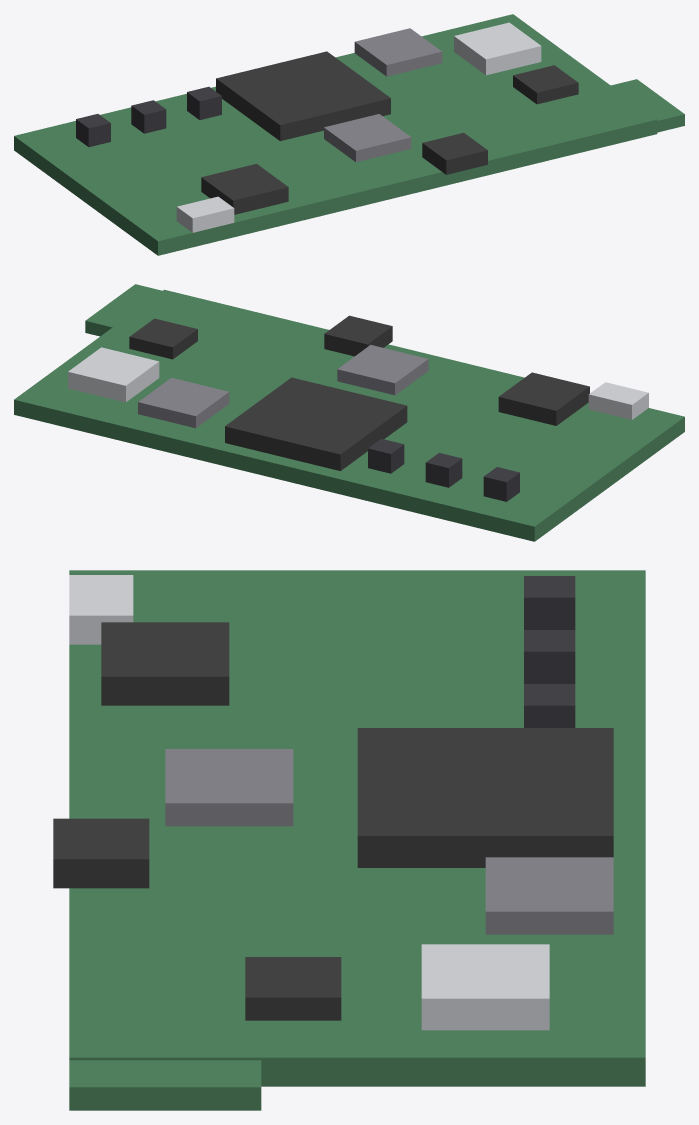
Rendered from mainboard.gltf.
3 renders of one model, top to bottom at view 1: azimuth 30°, elevation 25°; view 2: azimuth 150°, elevation 25°; view 3: azimuth 270°, elevation 25°, orthographic. The views are drawn at different scales.
Visible parts, largest first — view 1: mainboard; view 2: mainboard; view 3: mainboard.
Part boxes in pixels (<box>): mainboard: <box>14,14,684,255</box>; mainboard: <box>14,284,684,541</box>; mainboard: <box>53,570,645,1110</box>.
Bounding box in the file's own units: 0.19 × 0.0115 × 0.0925.
